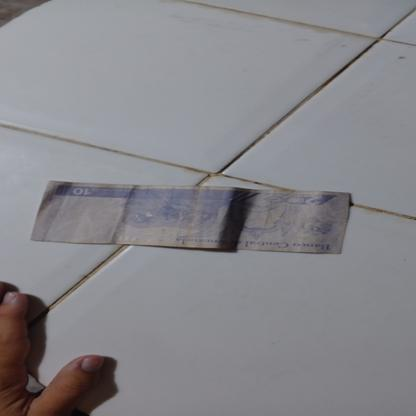ten-back-vef: (30, 178, 349, 256)
